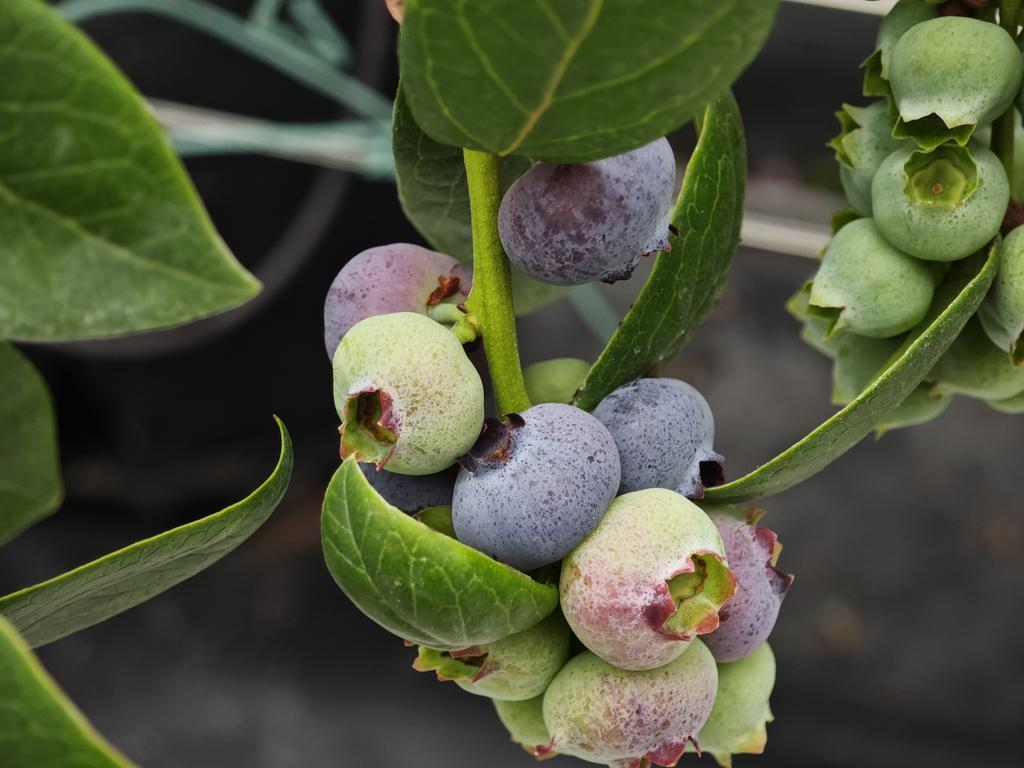RipeBlueBerry: (445, 398, 625, 572)
UnripeBlueBerry: (557, 484, 738, 675), (330, 309, 488, 478)
